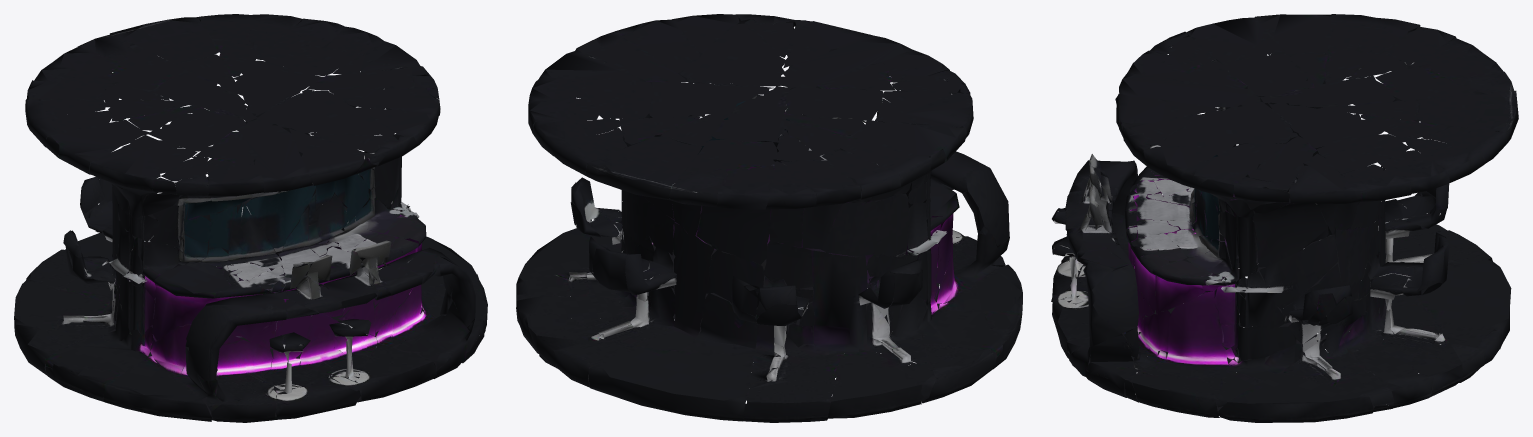
The model's file is co_desk.glb.
3 views of the same model, side by side, from view 1: azimuth 30°, elevation 25°; view 2: azimuth 150°, elevation 25°; view 3: azimuth 270°, elevation 25° (orthographic). The views are drawn at different scales.
Parts seen in each view (by area): view 1: Mesh_0; view 2: Mesh_0; view 3: Mesh_0.
Boxes of the visible parts, x1,y1,x2,y2 form: Mesh_0: [14, 14, 487, 422]; Mesh_0: [516, 14, 1022, 422]; Mesh_0: [1051, 14, 1518, 422].
Bounding box in the file's own units: 1.9 × 0.9324 × 1.8.
1 material, 1 textured.
